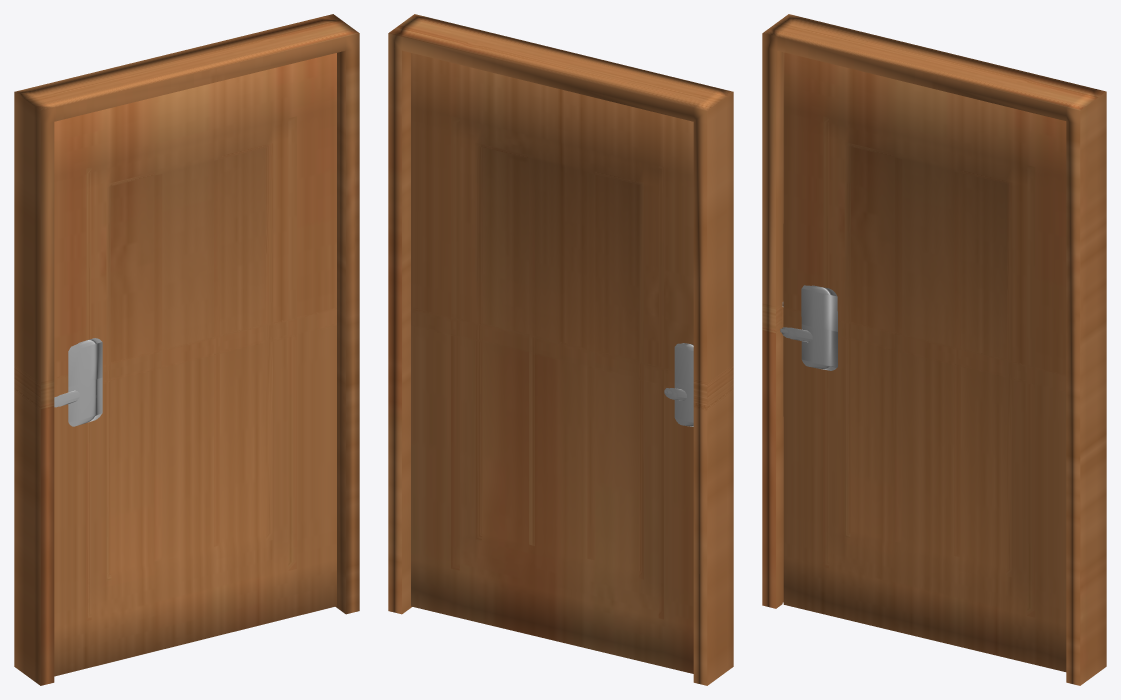
File: Door6.fbx
3 renders of one model, left to right at view 1: azimuth 30°, elevation 25°; view 2: azimuth 150°, elevation 25°; view 3: azimuth 330°, elevation 25°, orthographic.
Visible parts, largest first — view 1: DoorBoddy, OutBoddy, Locker; view 2: DoorBoddy, OutBoddy, Locker.001; view 3: DoorBoddy, OutBoddy, Locker.
Part boxes in pixels (x1,y1,x2,y2): DoorBoddy: [54, 53, 336, 676]; OutBoddy: [14, 14, 359, 685]; Locker: [54, 338, 102, 426]; DoorBoddy: [411, 53, 693, 673]; OutBoddy: [388, 14, 733, 685]; Locker.001: [664, 343, 693, 426]; DoorBoddy: [783, 52, 1066, 671]; OutBoddy: [762, 14, 1106, 685]; Locker: [780, 285, 837, 370].
Size of the model in its own units: 718 by 1242 by 103.
